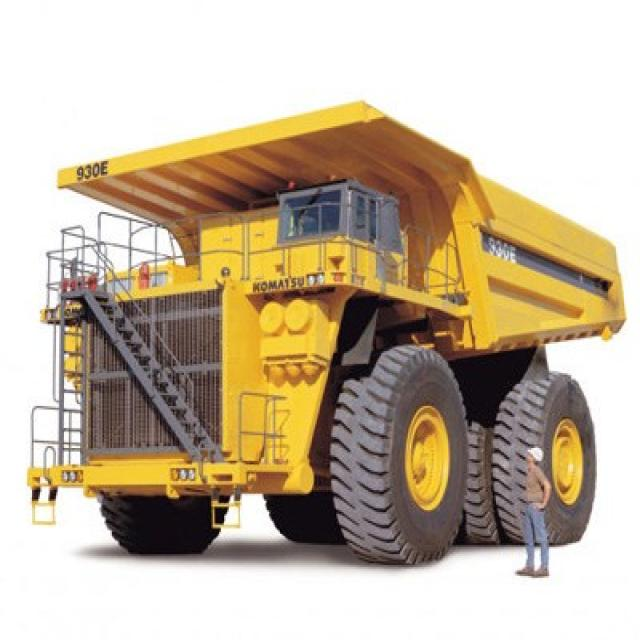dump_truck: (32, 95, 624, 561)
